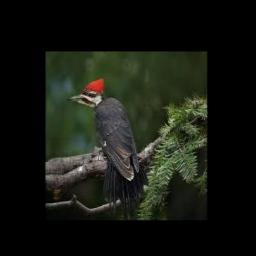Woodpecker: (68, 77, 148, 220)
